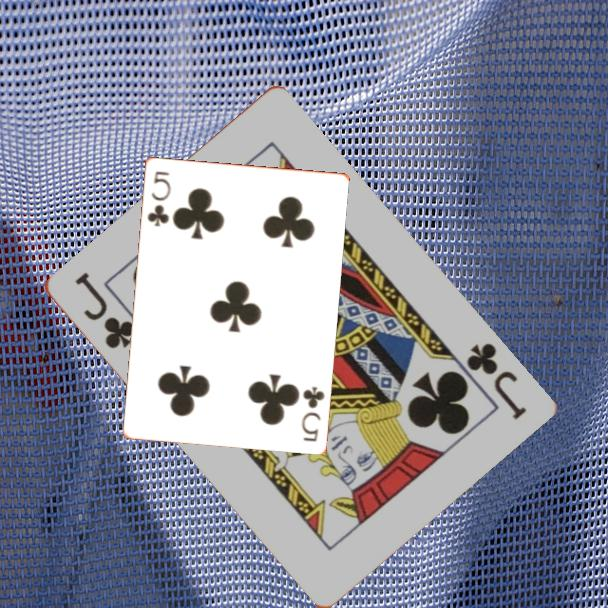c05: (143, 167, 173, 229), (298, 383, 327, 444)
c11: (71, 268, 138, 352), (462, 339, 529, 423)
